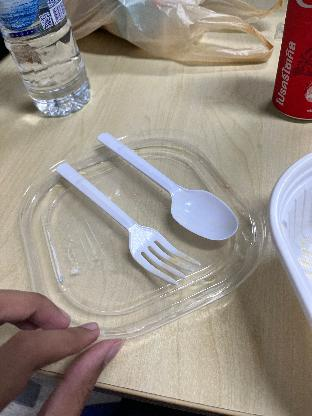Others: (53, 160, 207, 296), (86, 127, 244, 245)
Plastic Bottle: (0, 1, 92, 113)
